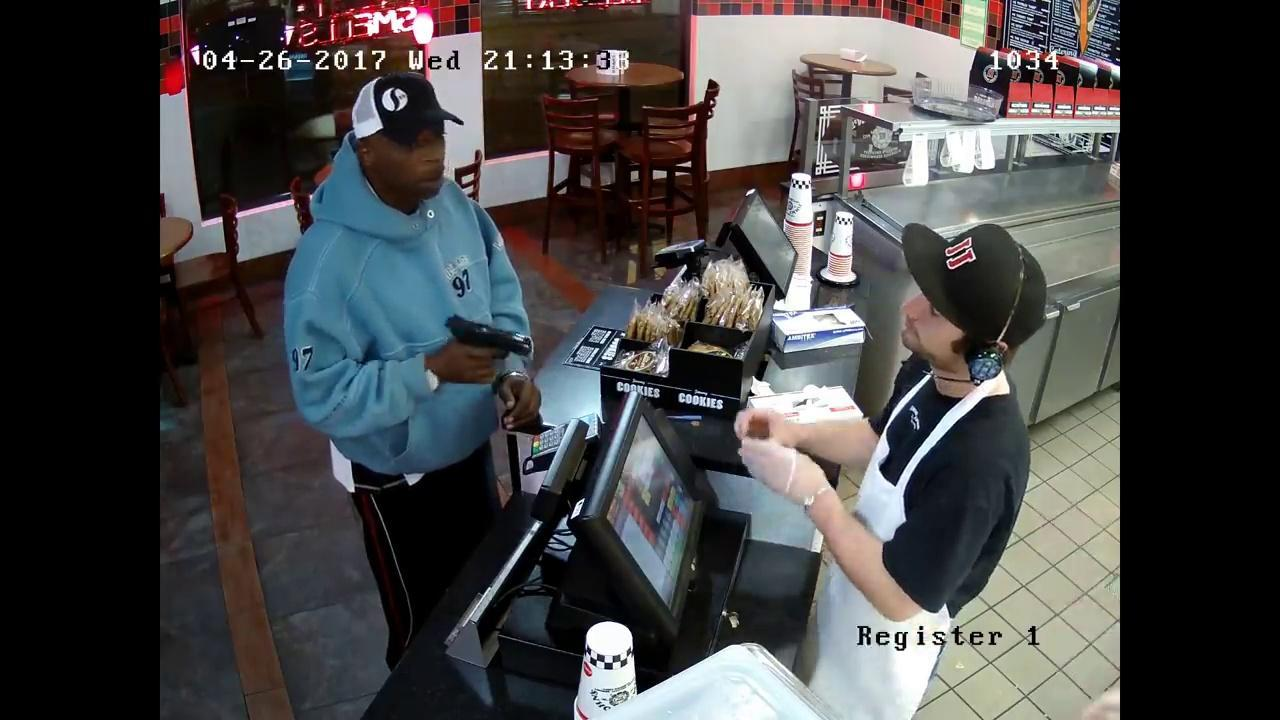Guns: (415, 297, 559, 384)
